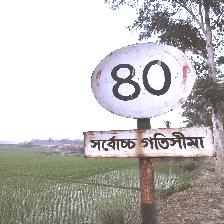Speed-limit: (83, 41, 211, 157)
